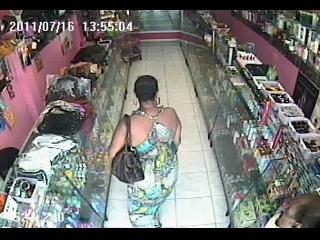Normal: (108, 75, 182, 227), (110, 116, 144, 184)
